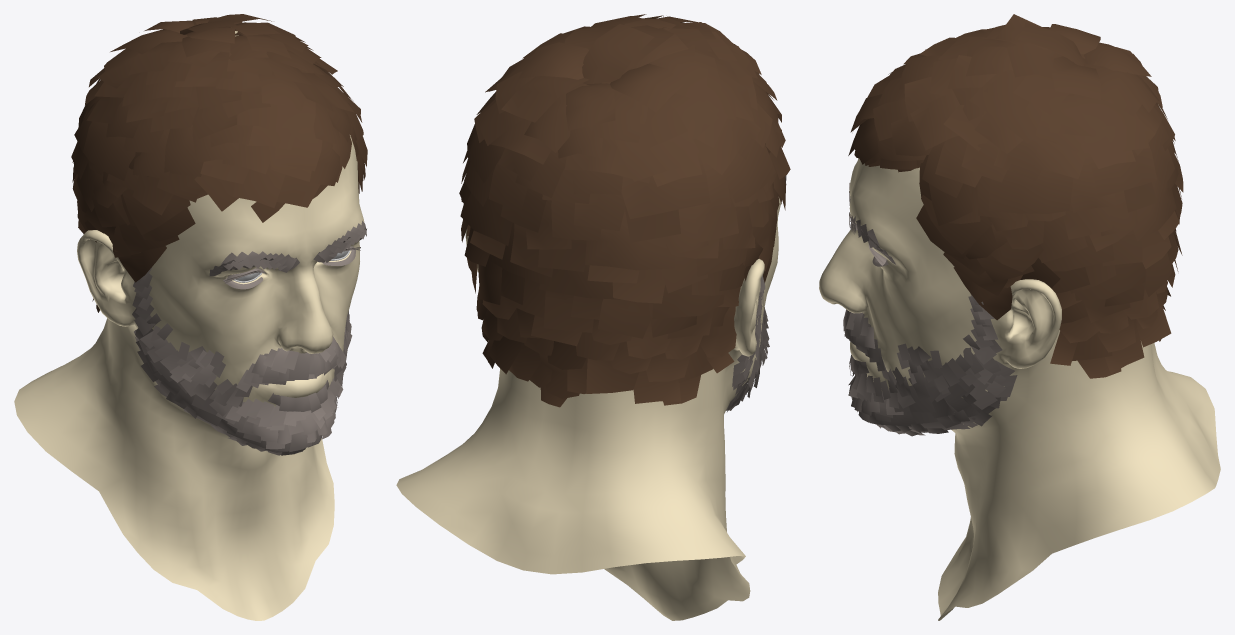
The model's file is Challenger_Head_Only.fbx.
3 views of the same model, side by side, from view 1: azimuth 30°, elevation 25°; view 2: azimuth 150°, elevation 25°; view 3: azimuth 270°, elevation 25° (orthographic). The views are drawn at different scales.
Visible parts, largest first — view 1: challenger_head, challenger_hair, challenger_beard; view 2: challenger_hair, challenger_head, challenger_beard; view 3: challenger_hair, challenger_head, challenger_beard.
Boxes of the visible parts, x1=… form: challenger_head: x1=14, y1=31, x2=364, y2=620; challenger_hair: x1=71, y1=14, x2=367, y2=312; challenger_beard: x1=132, y1=220, x2=366, y2=455; challenger_hair: x1=459, y1=14, x2=790, y2=407; challenger_head: x1=396, y1=197, x2=780, y2=620; challenger_beard: x1=726, y1=176, x2=786, y2=411; challenger_hair: x1=848, y1=14, x2=1183, y2=378; challenger_head: x1=819, y1=158, x2=1220, y2=620; challenger_beard: x1=843, y1=183, x2=1017, y2=436.
Size of the model in its own units: 20.43 by 23.22 by 37.36.
